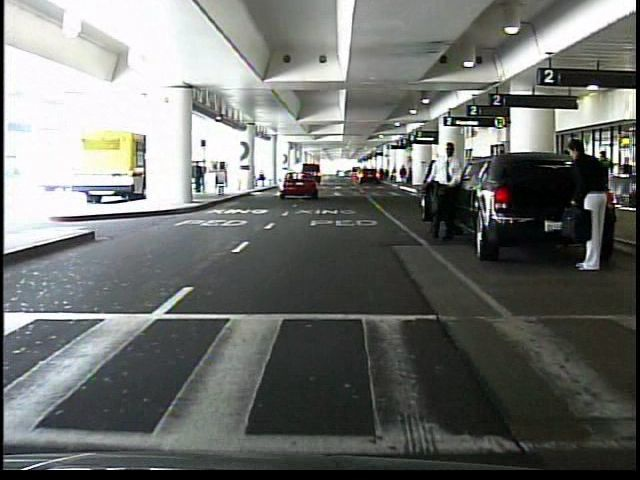person: (557, 136, 607, 273), (425, 141, 455, 240), (193, 160, 206, 196), (399, 165, 410, 189)
